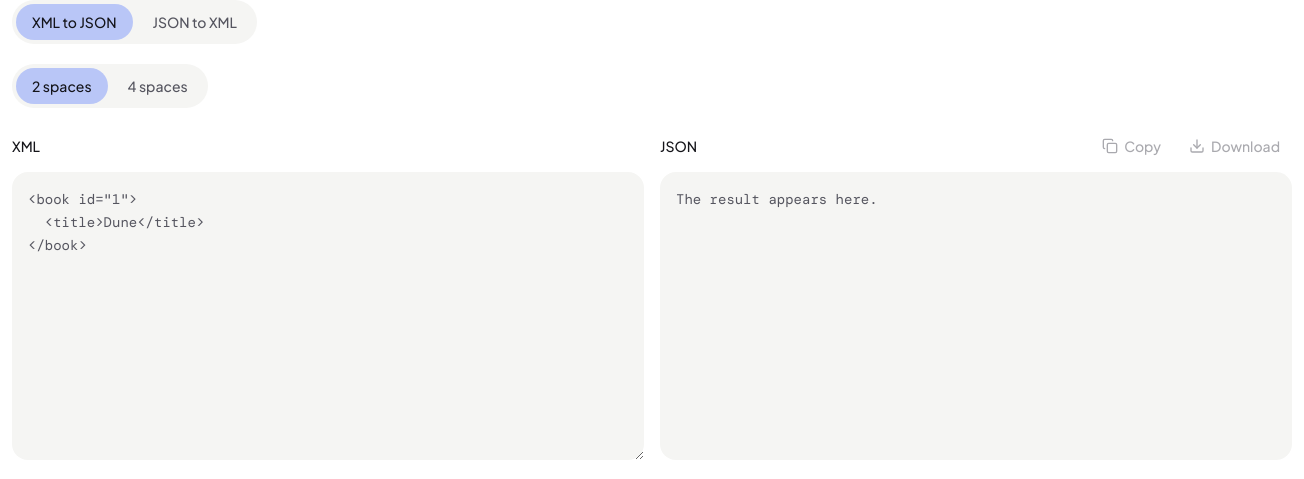
it: <XmlJsonTool /> › should keep an attribute when converting typed XML into JSON
Type "<book id=\"7\">Dune</book>" into the text box with placeholder "<book id=\"1\"> <title>Dune</title> </book>" at (328, 316), box [12,172,644,460]
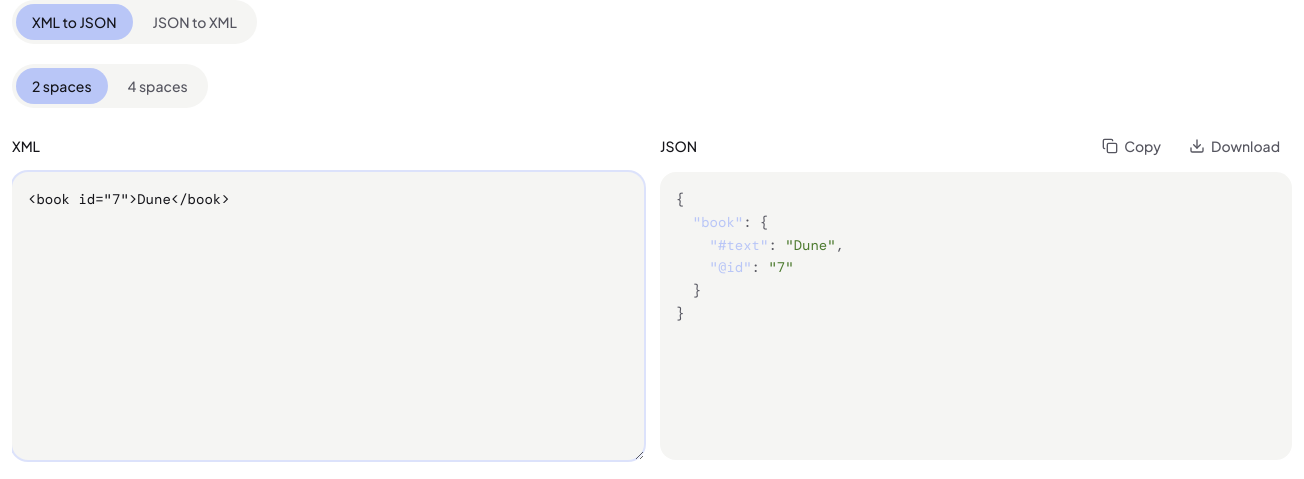
Now the element showing "{ \"book\": { \"#text\": \"Dune\", \"@id\": \"7\" }}" shows "\"@id\": \"7\"", box [660,172,1292,460]
